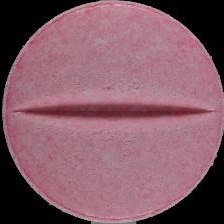0378-4022: (0, 0, 224, 224)
